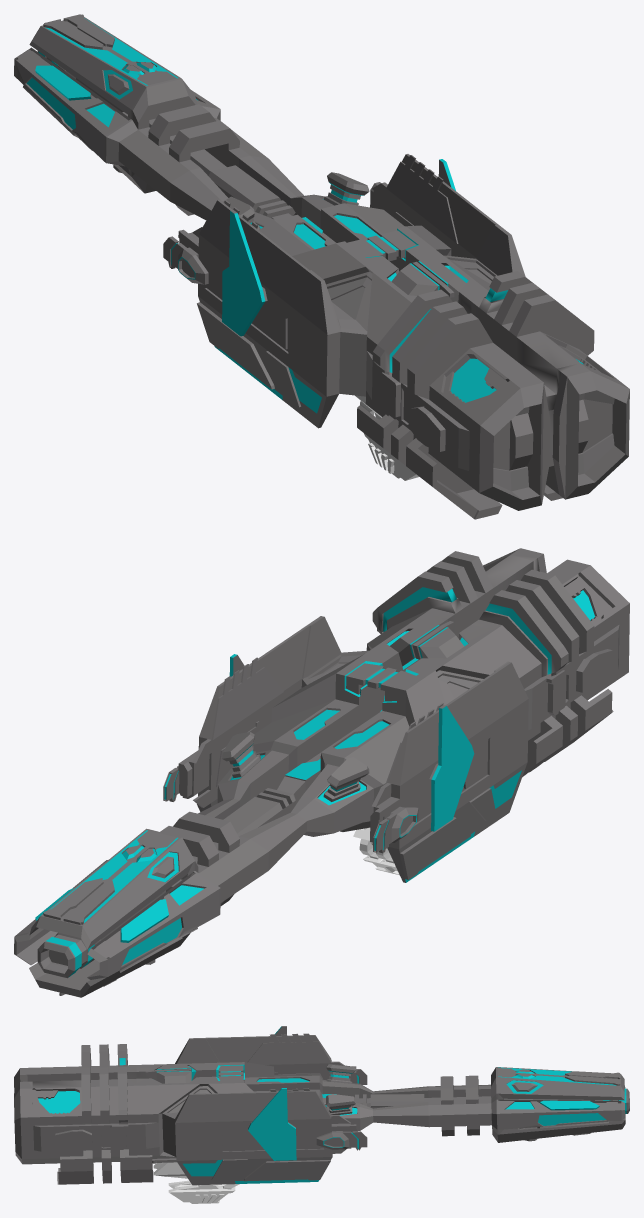
Rendered from gunTransistor.fbx.
3 views of the same model, one above another, from view 1: azimuth 30°, elevation 25°; view 2: azimuth 150°, elevation 25°; view 3: azimuth 270°, elevation 25° (orthographic). The views are drawn at different scales.
Visible parts, largest first — view 1: transistor.001; view 2: transistor.001; view 3: transistor.001.
Boxes of the visible parts, left/top/right/bottom form: transistor.001: left=14, top=14, right=629, bottom=519; transistor.001: left=14, top=548, right=629, bottom=997; transistor.001: left=14, top=1026, right=629, bottom=1203.
Bounding box in the file's own units: 42.82 × 43.04 × 170.
